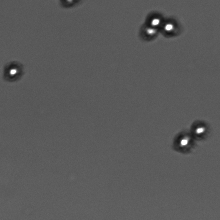Living Cell: (172, 129, 194, 153), (190, 116, 210, 139), (4, 61, 23, 81), (162, 17, 180, 37), (139, 24, 159, 40), (146, 13, 164, 30)
